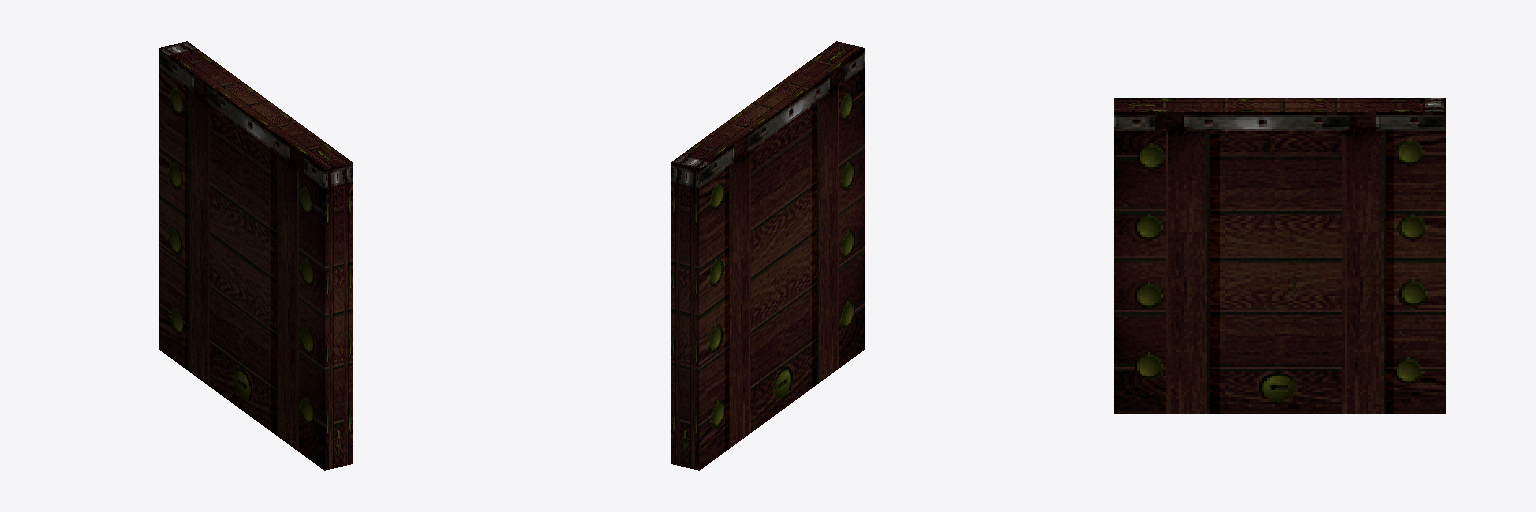
The picture shows the model from 3 angles: view 1: azimuth 30°, elevation 25°; view 2: azimuth 150°, elevation 25°; view 3: azimuth 270°, elevation 25°; orthographic projection.
Bounding box in the file's own units: 1 × 10 × 10.
1 materials, 1 textured.